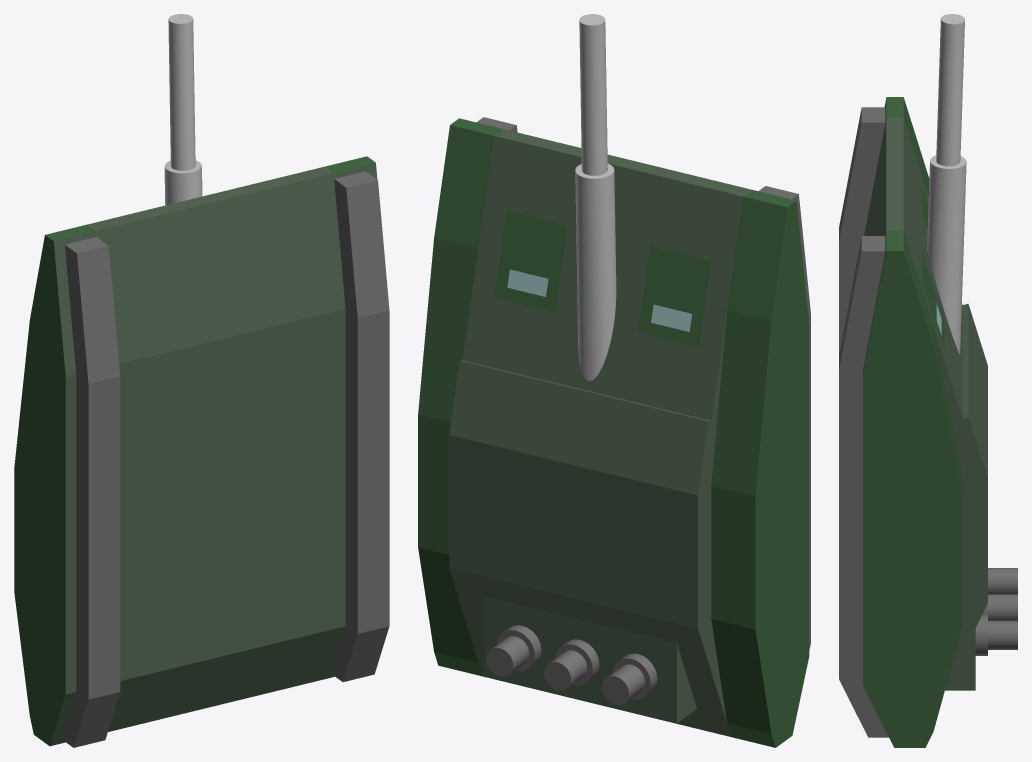
Rendered from goodtank.dae.
3 renders of one model, left to right at view 1: azimuth 30°, elevation 25°; view 2: azimuth 150°, elevation 25°; view 3: azimuth 270°, elevation 25°, orthographic. The views are drawn at different scales.
Parts seen in each view (by area): view 1: SketchUp (×6); view 2: SketchUp (×17); view 3: SketchUp (×13).
Part boxes in pixels (left/top/right/bottom): SketchUp (×6): left=14, top=14, right=389, bottom=747; SketchUp (×17): left=418, top=14, right=810, bottom=747; SketchUp (×13): left=839, top=14, right=1017, bottom=747.
Bounding box in the file's own units: 11.99 × 5.89 × 23.7.
